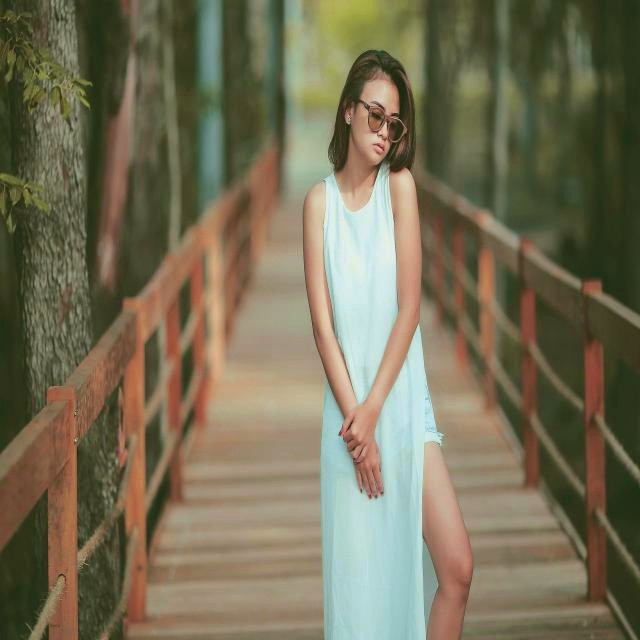Miniskirt: (319, 354, 476, 640)
Sleeveless: (390, 162, 420, 222), (301, 179, 328, 225)
